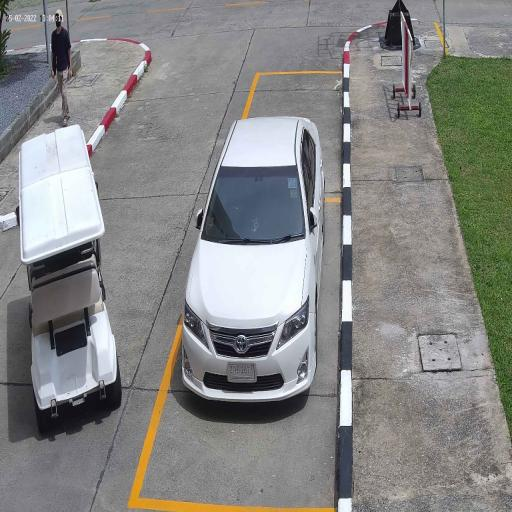car: (182, 116, 324, 402), (19, 125, 122, 426)
